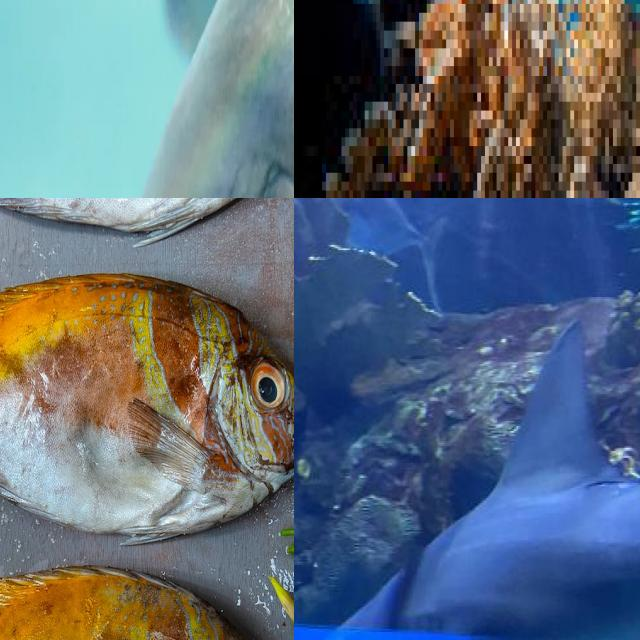fish: (294, 0, 640, 198), (0, 0, 294, 198), (0, 477, 84, 640)
